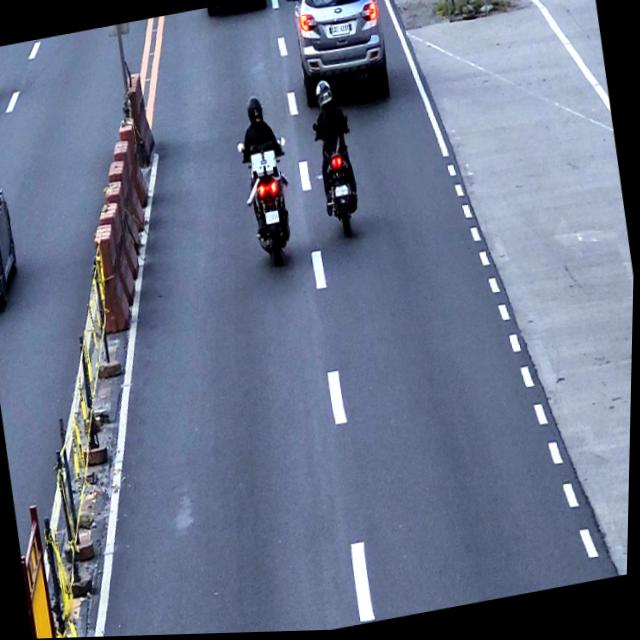Car: (282, 0, 397, 114), (0, 145, 26, 309)
License-Plate: (331, 23, 351, 39), (266, 212, 282, 227), (335, 186, 350, 200)
Motorcycle: (235, 133, 305, 273), (310, 117, 367, 243)
